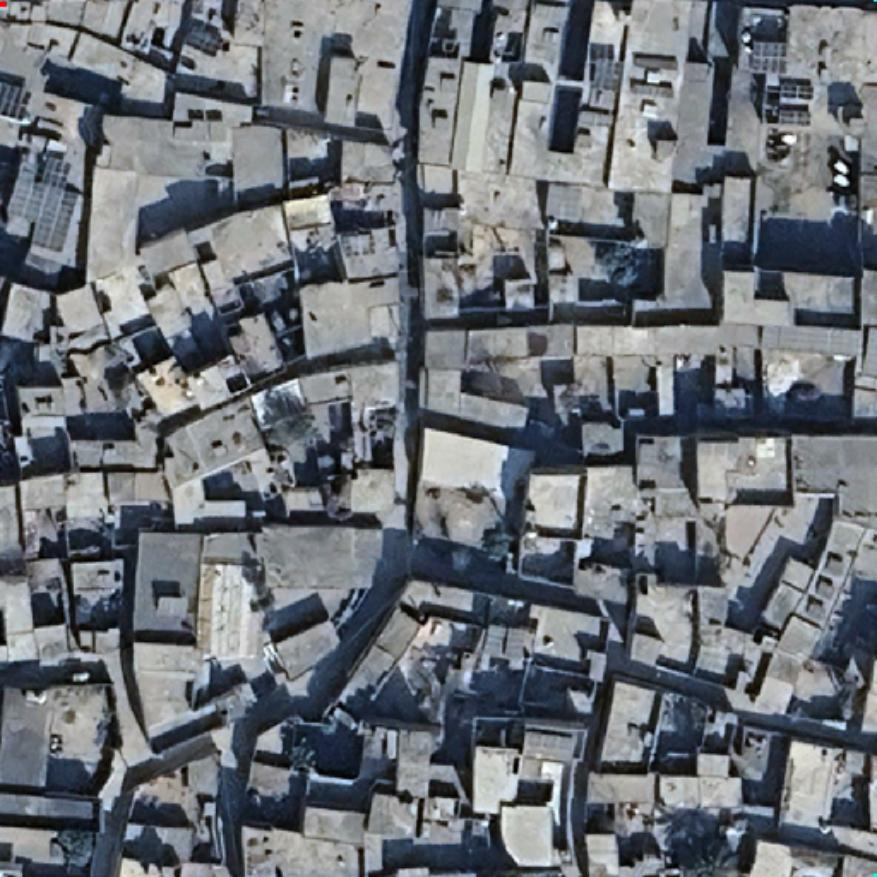Solarpanel: (5, 151, 81, 254), (750, 38, 788, 74), (0, 80, 32, 122), (592, 56, 624, 92), (761, 82, 814, 102), (634, 53, 678, 73), (772, 106, 815, 125), (633, 82, 676, 101)
